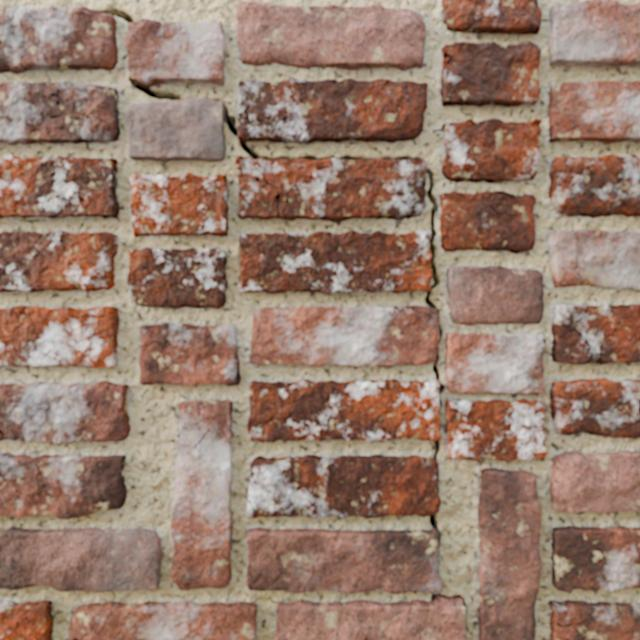crack: (0, 5, 465, 639), (236, 1, 425, 70), (170, 400, 232, 590), (478, 468, 542, 639), (0, 527, 162, 592), (0, 453, 126, 519), (0, 381, 130, 443), (0, 81, 120, 144), (0, 155, 119, 218), (0, 305, 119, 368), (0, 230, 117, 292), (68, 601, 256, 639), (440, 41, 540, 106), (139, 322, 240, 385), (442, 118, 541, 182), (445, 399, 547, 461), (130, 173, 228, 237), (439, 190, 536, 253), (445, 332, 545, 393), (127, 247, 227, 308), (549, 0, 639, 67), (548, 154, 639, 218), (551, 526, 639, 592), (548, 80, 639, 143), (446, 266, 543, 325), (548, 230, 639, 291), (550, 450, 639, 512), (550, 378, 639, 438), (551, 304, 639, 364), (549, 600, 639, 639), (442, 0, 541, 34), (0, 600, 53, 639)
